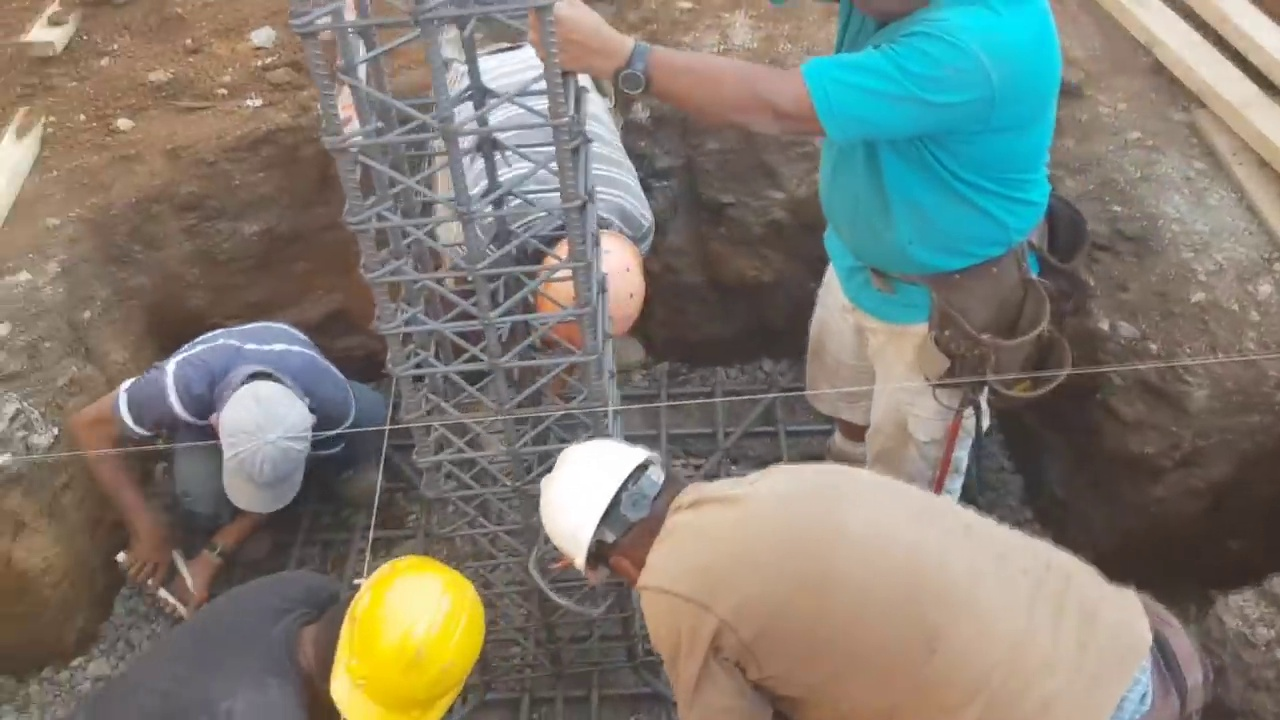helmet: (331, 555, 476, 719), (544, 433, 660, 592), (532, 236, 648, 368)
helmet-off: (207, 366, 320, 516)
helmet-on: (284, 561, 484, 716), (541, 431, 697, 597), (518, 216, 657, 371)
person: (532, 2, 1056, 497), (532, 432, 1217, 720), (58, 326, 387, 620), (427, 0, 661, 378), (71, 552, 484, 719)
